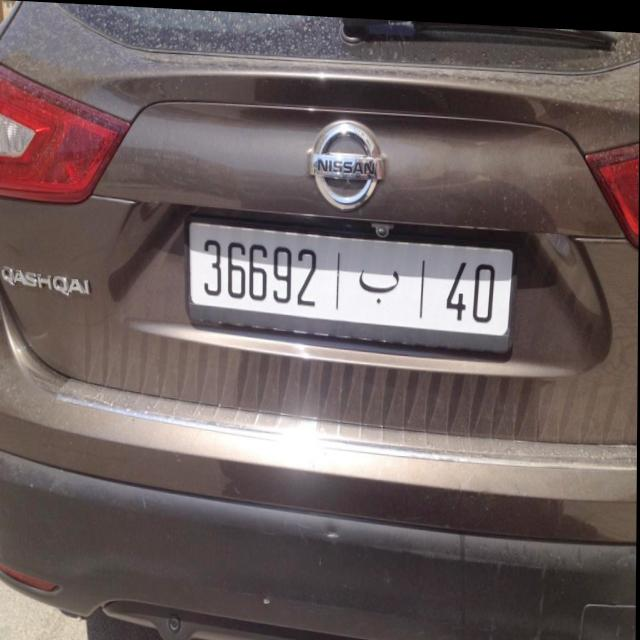License-Plate: (188, 218, 514, 348)
